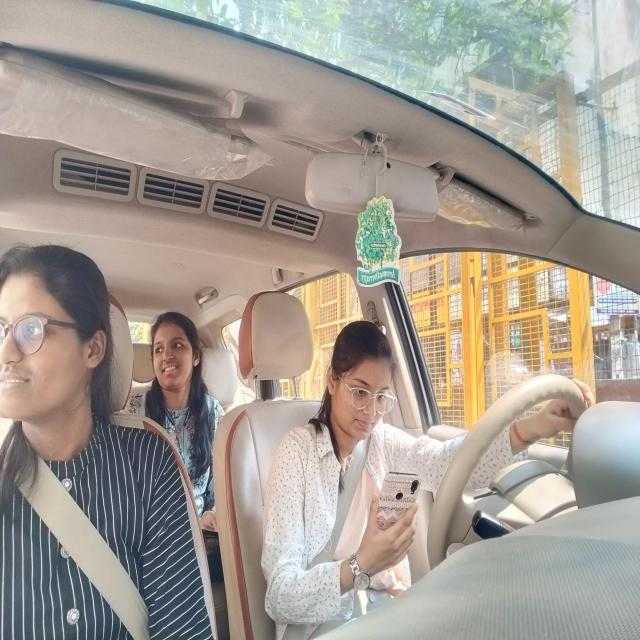mobile: (372, 466, 420, 556)
person: (0, 234, 111, 441), (323, 319, 402, 440), (147, 309, 200, 409)
